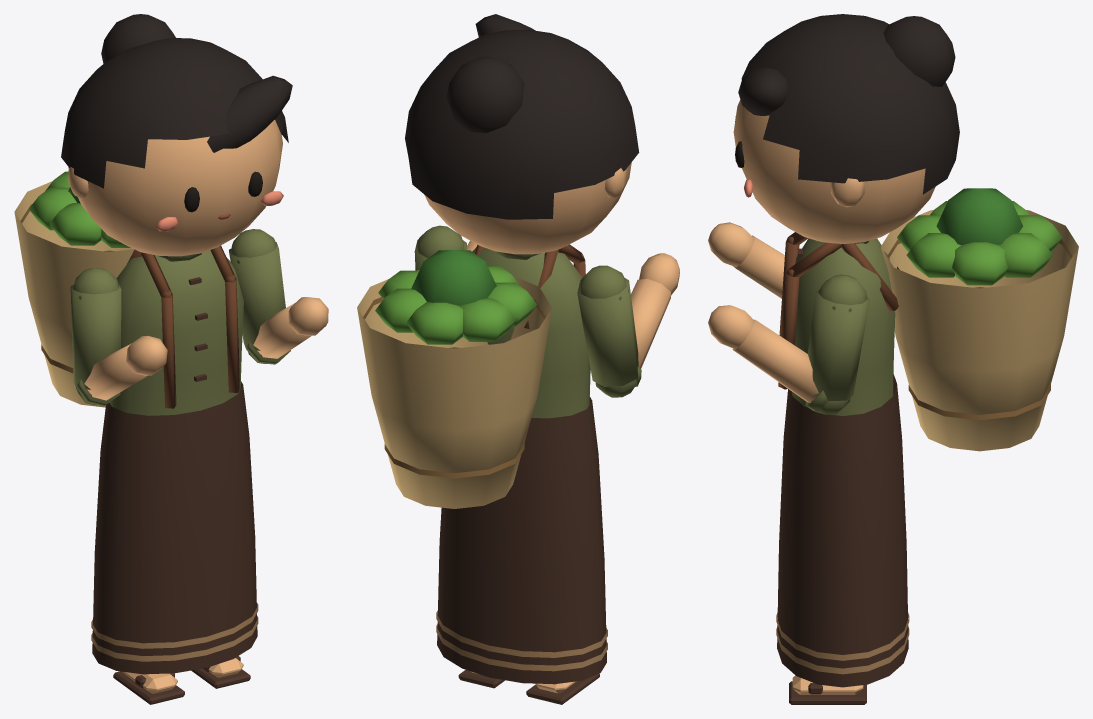
Rendered from north_tea_picker.glb.
3 renders of one model, left to right at view 1: azimuth 30°, elevation 25°; view 2: azimuth 150°, elevation 25°; view 3: azimuth 270°, elevation 25°, orthographic. The views are drawn at different scales.
Visible parts, largest first — view 1: body, head, arm_R, arm_L, forearm_R, forearm_L, shin_R, shin_L; view 2: body, head, arm_R, forearm_R, arm_L, shin_R; view 3: body, head, arm_L, forearm_L, forearm_R, shin_L.
Boxes of the visible parts, <box> form: body: <box>14,171,258,674</box>; head: <box>61,14,292,256</box>; arm_R: <box>70,268,121,405</box>; arm_L: <box>229,229,285,363</box>; forearm_R: <box>76,336,167,406</box>; forearm_L: <box>246,297,328,364</box>; shin_R: <box>113,671,184,704</box>; shin_L: <box>191,656,250,688</box>; body: <box>357,244,607,684</box>; head: <box>405,14,639,254</box>; arm_R: <box>577,265,638,397</box>; forearm_R: <box>598,253,679,396</box>; arm_L: <box>414,225,466,270</box>; shin_R: <box>526,673,599,704</box>; body: <box>776,188,1078,687</box>; head: <box>733,14,959,243</box>; arm_L: <box>808,274,869,414</box>; forearm_L: <box>708,305,848,412</box>; forearm_R: <box>708,222,784,298</box>; shin_L: <box>789,675,866,704</box>.
Size of the model in its own units: 0.5148 by 1.47 by 0.7486.
